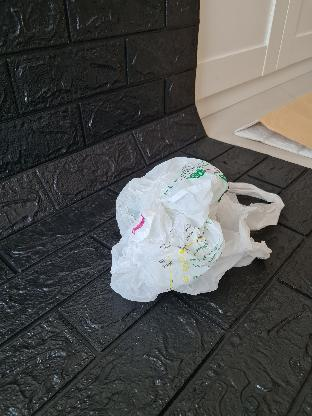Plastic Bag: (108, 158, 288, 306)
